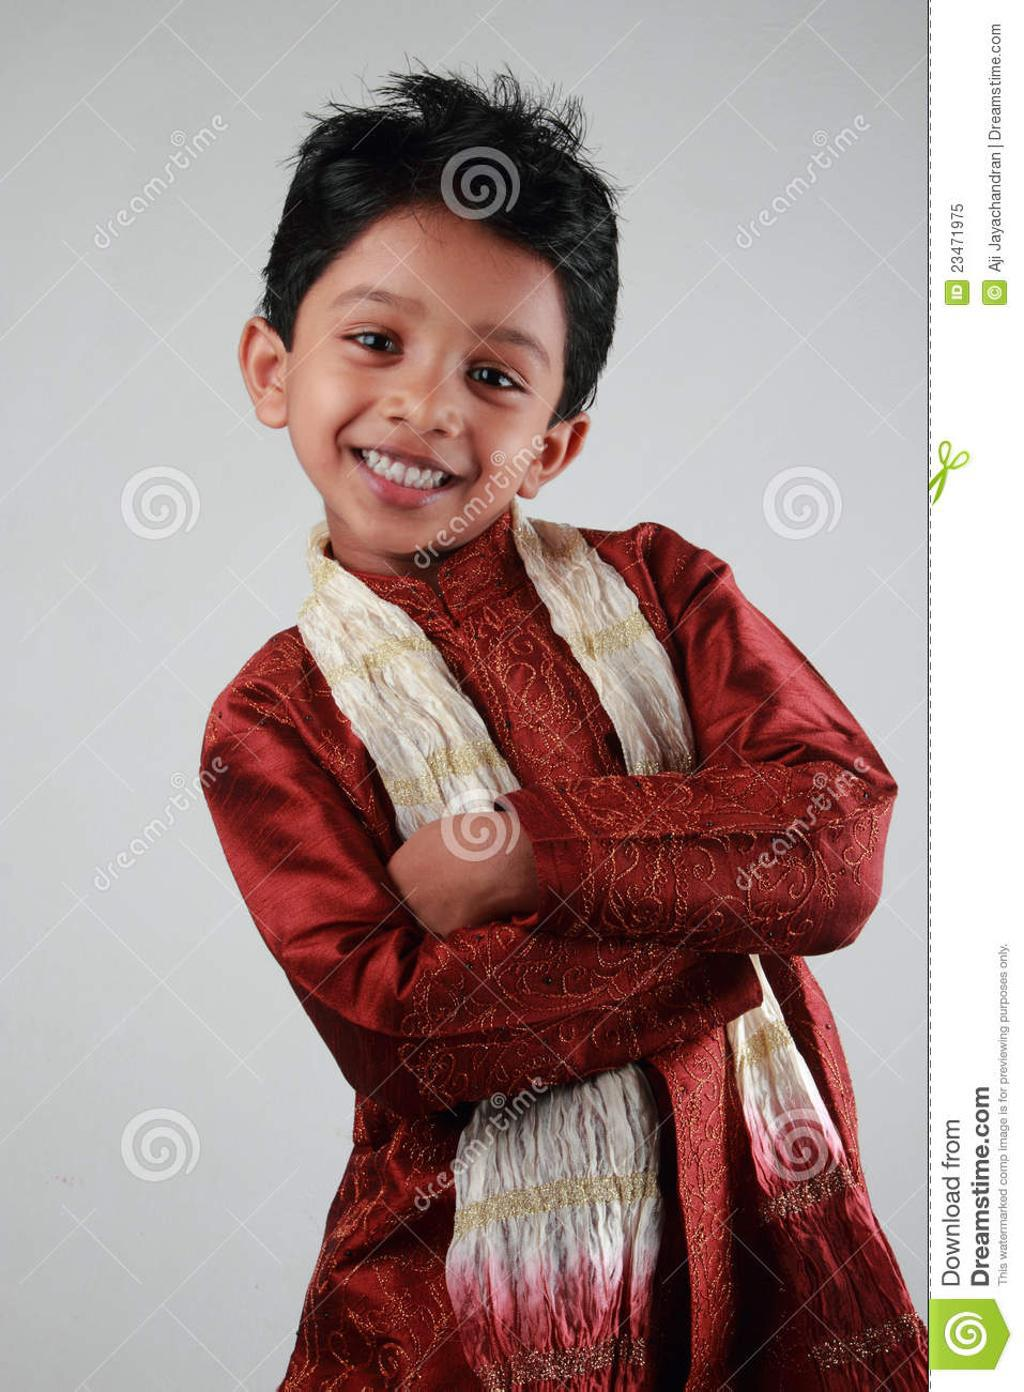face: (289, 205, 566, 553)
